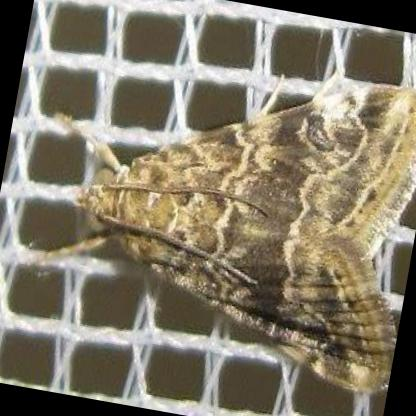Hellula undalis: (11, 63, 416, 396)
